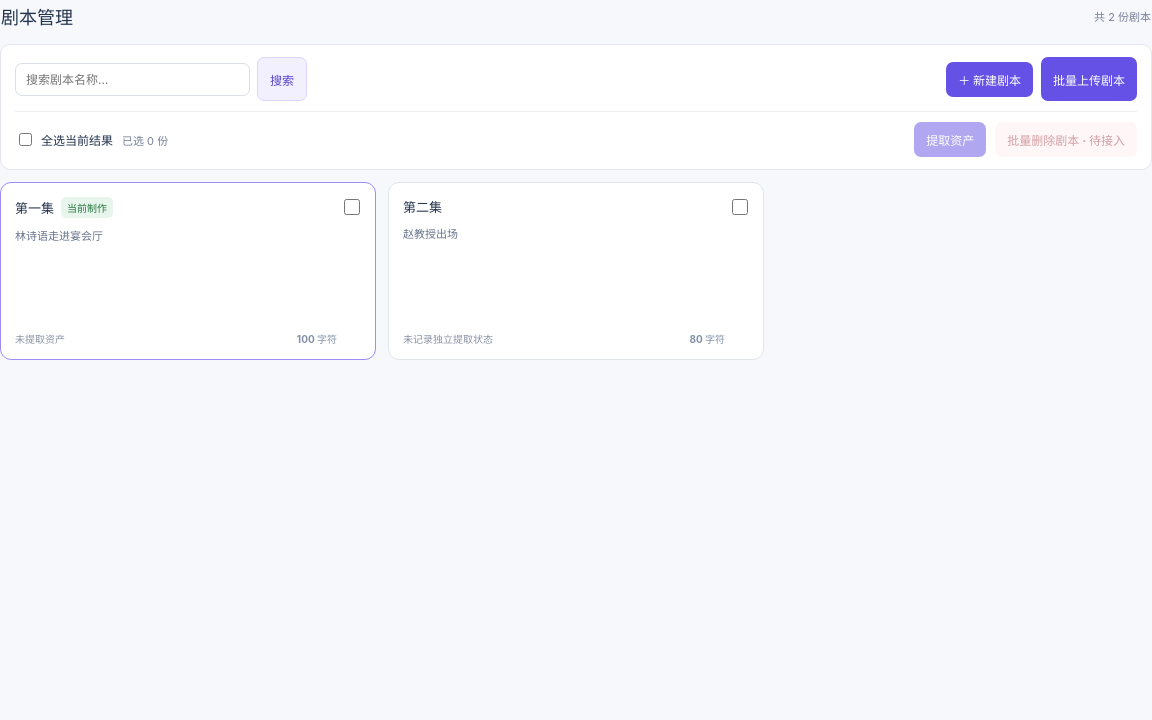
Test: ScriptToDramaScriptLibrary › reads full text for any script, without switching the production source
Click the button with class "card-content" showing "第二集 赵教授出场 未记录独立提取状态 80 字符". click: point(423, 207)
box: left=389, top=183, right=763, bottom=359
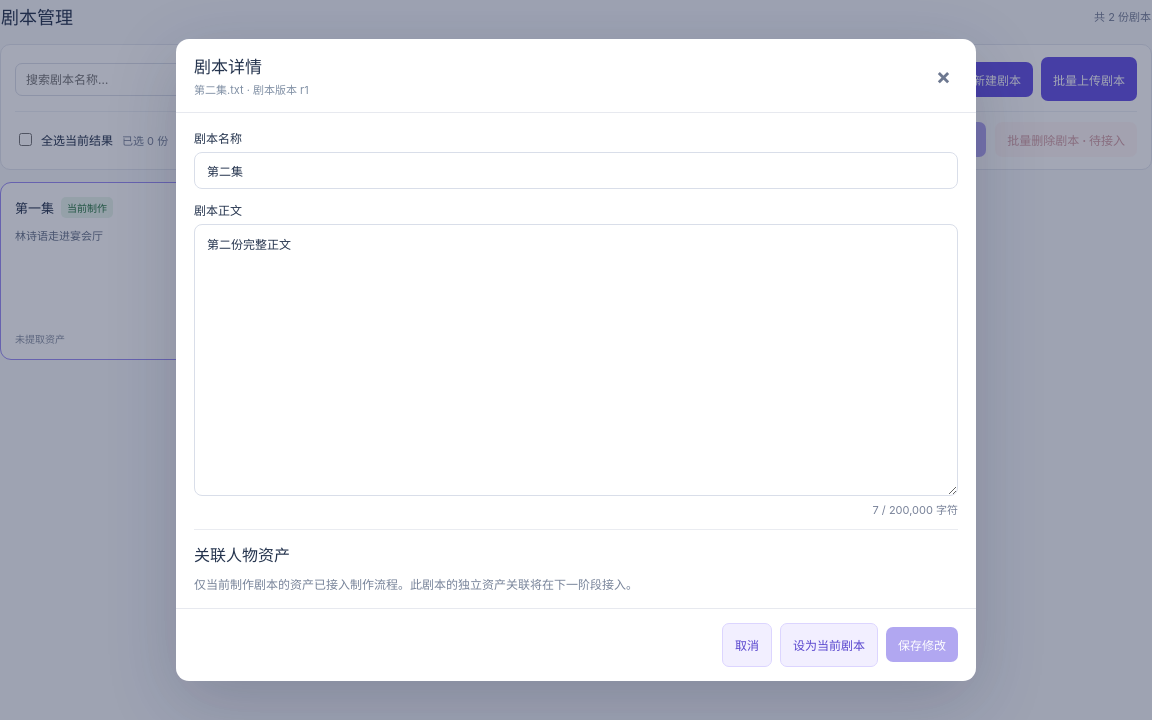
Check: the text box labelled "剧本正文" holds "第二份完整正文", box left=194, top=224, right=958, bottom=496
Check: the button "保存修改" is disabled, box left=886, top=627, right=958, bottom=662
Click the button with class "secondary" showing "取消". click: point(747, 645)
box: left=722, top=623, right=772, bottom=667
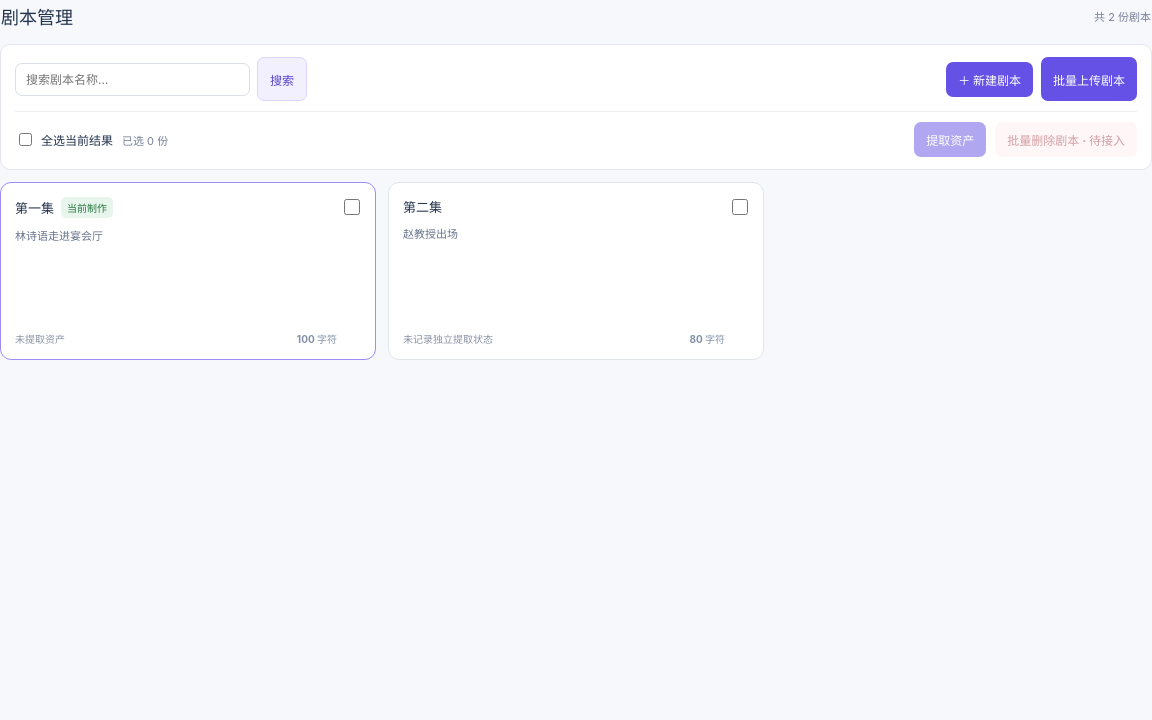
Click the checkbox labelled "全选当前结果". click: point(26, 140)
box: left=19, top=133, right=32, bottom=146
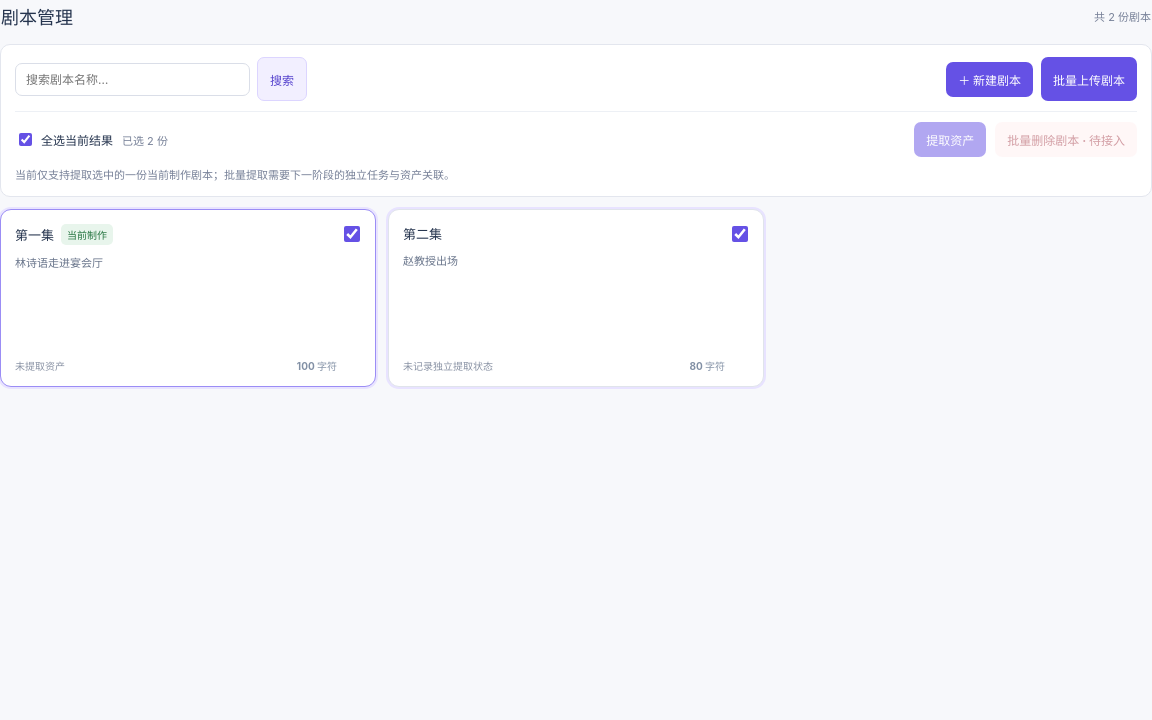
Check: the button "提取资产" is disabled, box left=914, top=122, right=986, bottom=157
Check: the text "已选 2 份" is shown, box left=122, top=132, right=168, bottom=148
